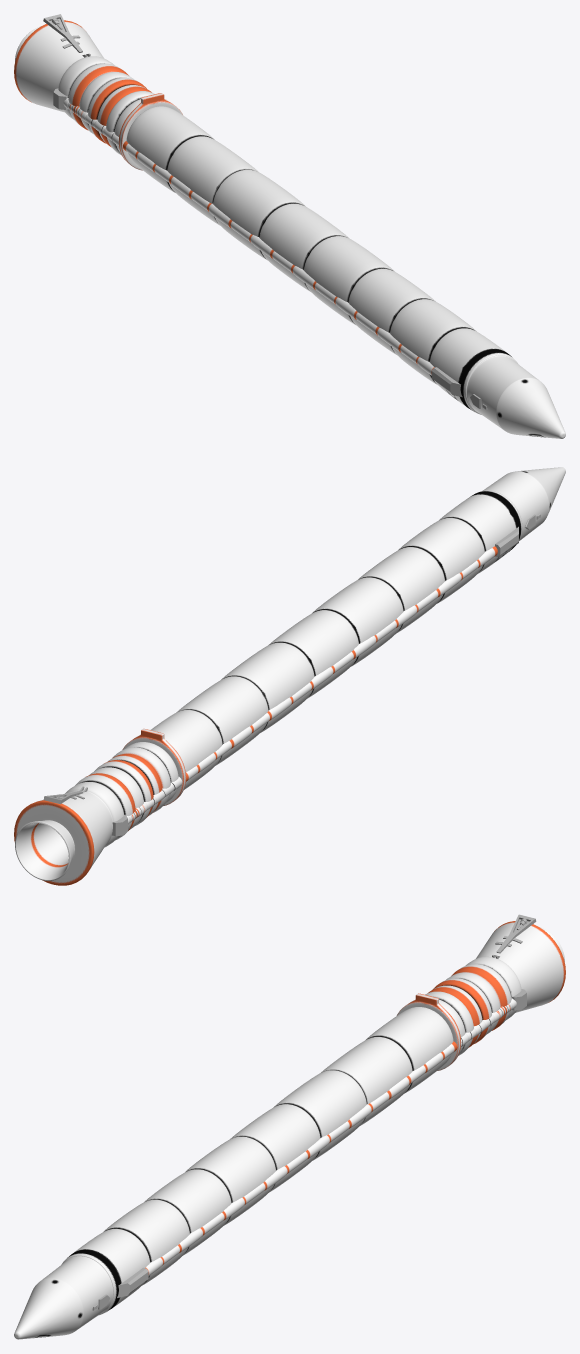
Rendered from rocket_1.glb.
3 renders of one model, top to bottom at view 1: azimuth 30°, elevation 25°; view 2: azimuth 150°, elevation 25°; view 3: azimuth 330°, elevation 25°, orthographic.
Parts seen in each view (by area): view 1: Rocket_01_Rocket_Material_0.001, Rocket_Details_01_Rocket_Details_Material_0.001, Rocket_01_White_Metal_0.001; view 2: Rocket_01_Rocket_Material_0.001, Rocket_Details_01_Rocket_Details_Material_0.001, Rocket_01_White_Metal_0.001; view 3: Rocket_01_Rocket_Material_0.001, Rocket_Details_01_Rocket_Details_Material_0.001, Rocket_01_White_Metal_0.001, Rocket_Details_01_Rocket_Material_0.001.
Boxes of the visible parts, x1,y1,x2,y2 form: Rocket_01_Rocket_Material_0.001: [14, 20, 565, 438]; Rocket_Details_01_Rocket_Details_Material_0.001: [123, 141, 434, 375]; Rocket_01_White_Metal_0.001: [43, 14, 487, 409]; Rocket_01_Rocket_Material_0.001: [14, 467, 565, 885]; Rocket_Details_01_Rocket_Details_Material_0.001: [186, 546, 497, 781]; Rocket_01_White_Metal_0.001: [43, 513, 540, 836]; Rocket_01_Rocket_Material_0.001: [14, 921, 565, 1339]; Rocket_Details_01_Rocket_Details_Material_0.001: [145, 1041, 457, 1275]; Rocket_01_White_Metal_0.001: [92, 914, 536, 1310]; Rocket_Details_01_Rocket_Material_0.001: [461, 998, 516, 1046].
Bounding box in the file's own units: 0.6496 × 0.6857 × 7.41.
3 materials, 2 textured.
